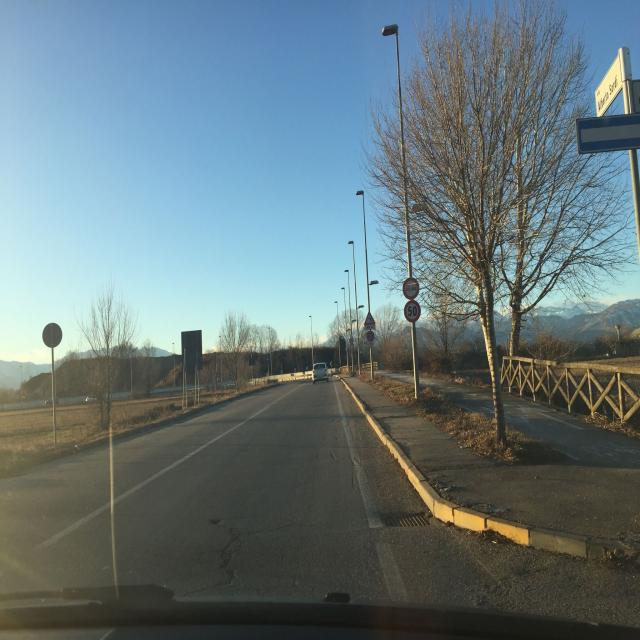car: (312, 362, 329, 383)
